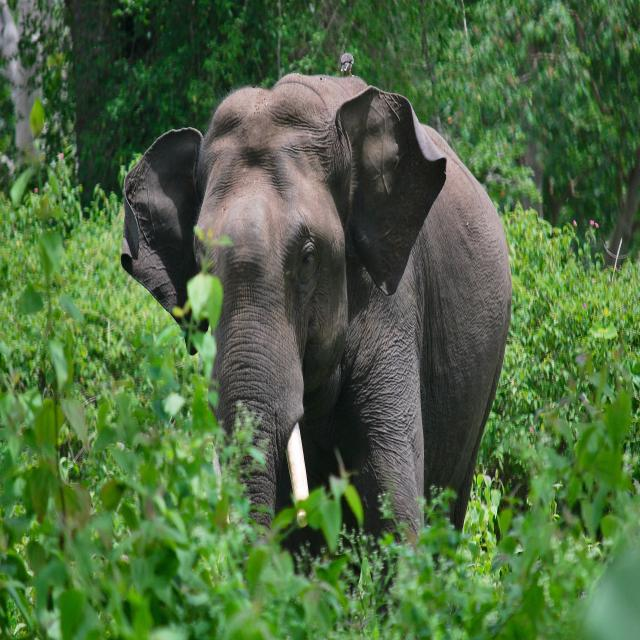Elephant: (112, 68, 519, 579)
